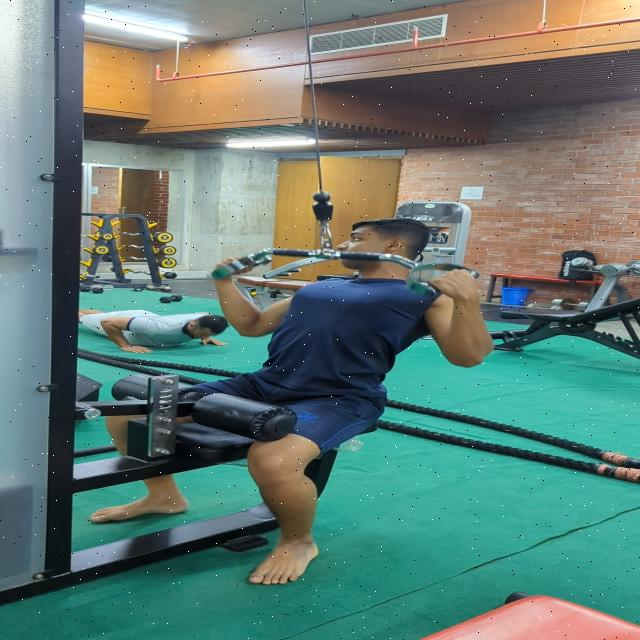Normal_LatPulldown: (83, 210, 498, 585)
